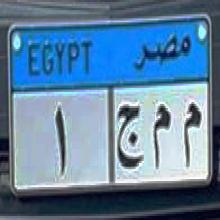1: (53, 102, 69, 178)
jeem: (115, 102, 144, 174)
meem: (150, 102, 173, 176), (180, 99, 202, 172)
